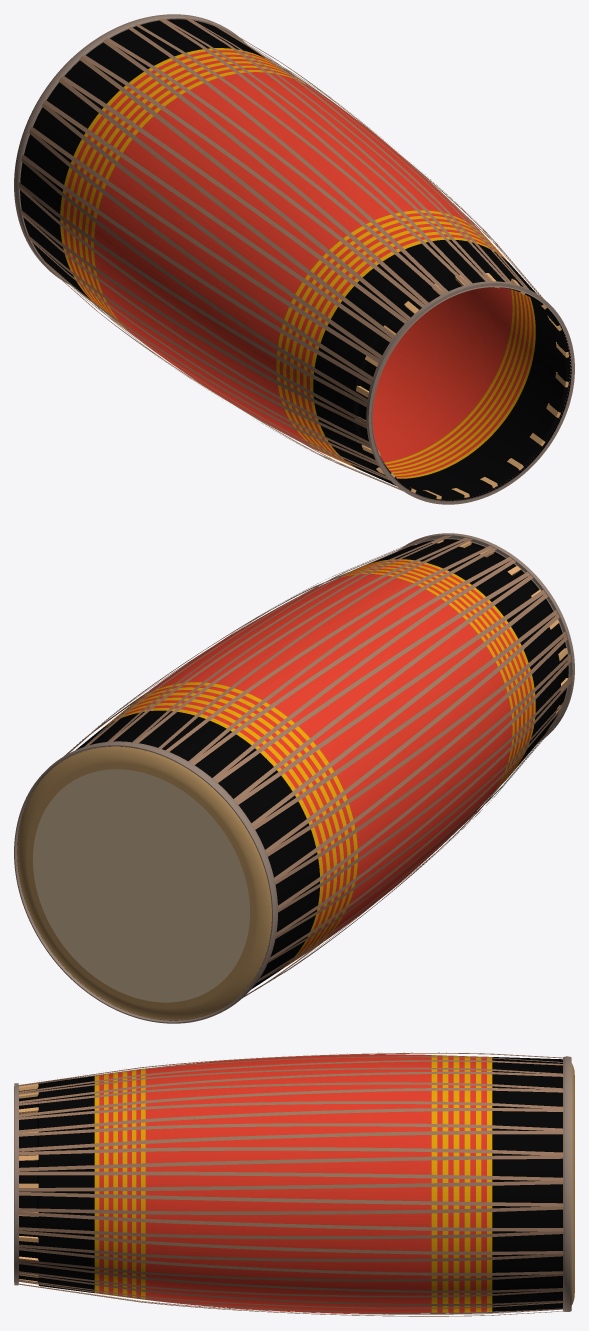
Rendered from dhol.glb.
3 views of the same model, one above another, from view 1: azimuth 30°, elevation 25°; view 2: azimuth 150°, elevation 25°; view 3: azimuth 270°, elevation 25° (orthographic). The views are drawn at different scales.
Parts seen in each view (by area): view 1: Khola, Barati, Cylinder, Korol, Faring; view 2: Khola, Taali, Barati, Katani Saal, Korol, Cylinder; view 3: Khola, Barati, Korol, Cylinder, Katani Saal, Faring.
Boxes of the visible parts, box(x1,y1,x2,y2) form: Khola: box(20, 19, 571, 500); Barati: box(18, 17, 561, 490); Cylinder: box(366, 281, 574, 504); Korol: box(14, 14, 246, 284); Faring: box(355, 273, 568, 499); Khola: box(17, 539, 568, 1020); Taali: box(33, 769, 249, 1002); Barati: box(64, 535, 571, 997); Katani Saal: box(17, 746, 271, 1020); Korol: box(14, 741, 277, 1023); Cylinder: box(398, 533, 574, 741); Khola: box(19, 1054, 562, 1313); Barati: box(18, 1052, 563, 1316); Korol: box(563, 1056, 571, 1311); Cylinder: box(14, 1083, 18, 1285); Katani Saal: box(571, 1063, 574, 1305); Faring: box(19, 1084, 38, 1284).
Size of the model in its own units: 1.7 by 1.7 by 3.6.
Materials: 9 (2 with a texture image).
